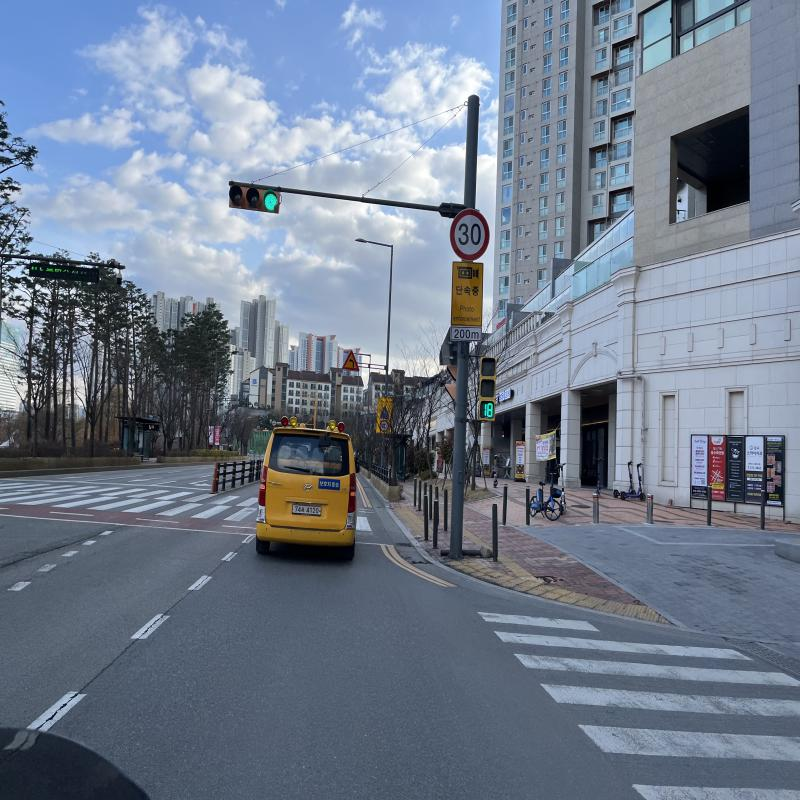green: (261, 190, 279, 213)
